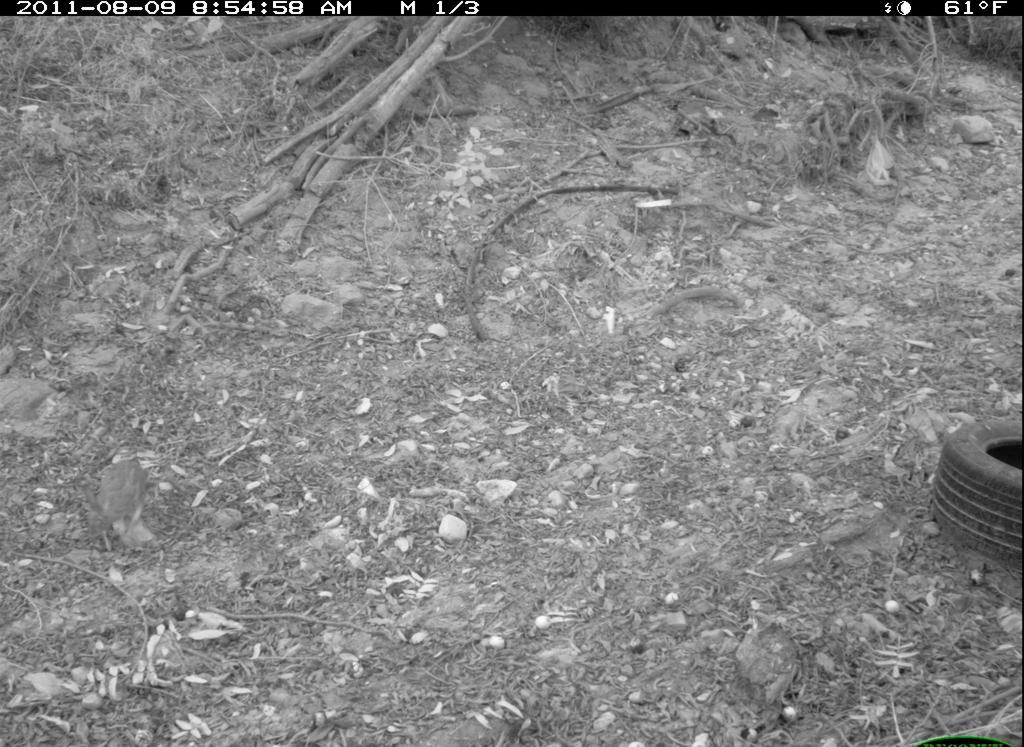rabbit: (75, 451, 166, 560)
